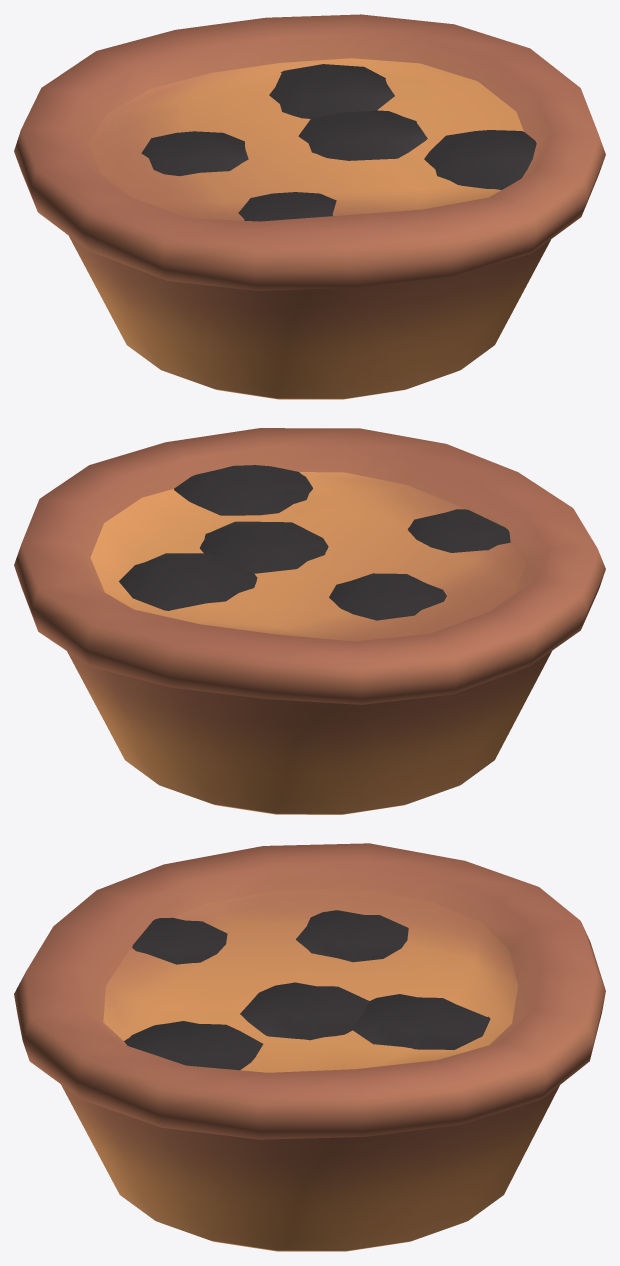
Rendered from Pastry.fbx.
The picture shows the model from 3 angles, top to bottom: view 1: azimuth 30°, elevation 25°; view 2: azimuth 150°, elevation 25°; view 3: azimuth 270°, elevation 25°; orthographic projection. The views are drawn at different scales.
Visible parts, largest first — view 1: Pastry; view 2: Pastry; view 3: Pastry.
Part boxes in pixels (box(x1,y1,x2,y2)): Pastry: box(14, 14, 605, 399); Pastry: box(14, 428, 605, 814); Pastry: box(14, 843, 605, 1251).
Size of the model in its own units: 15.79 by 5.9 by 15.4.
